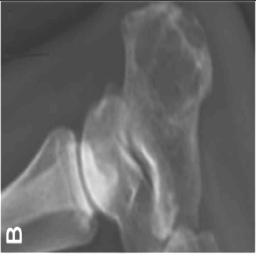cancer: (129, 9, 212, 130)
